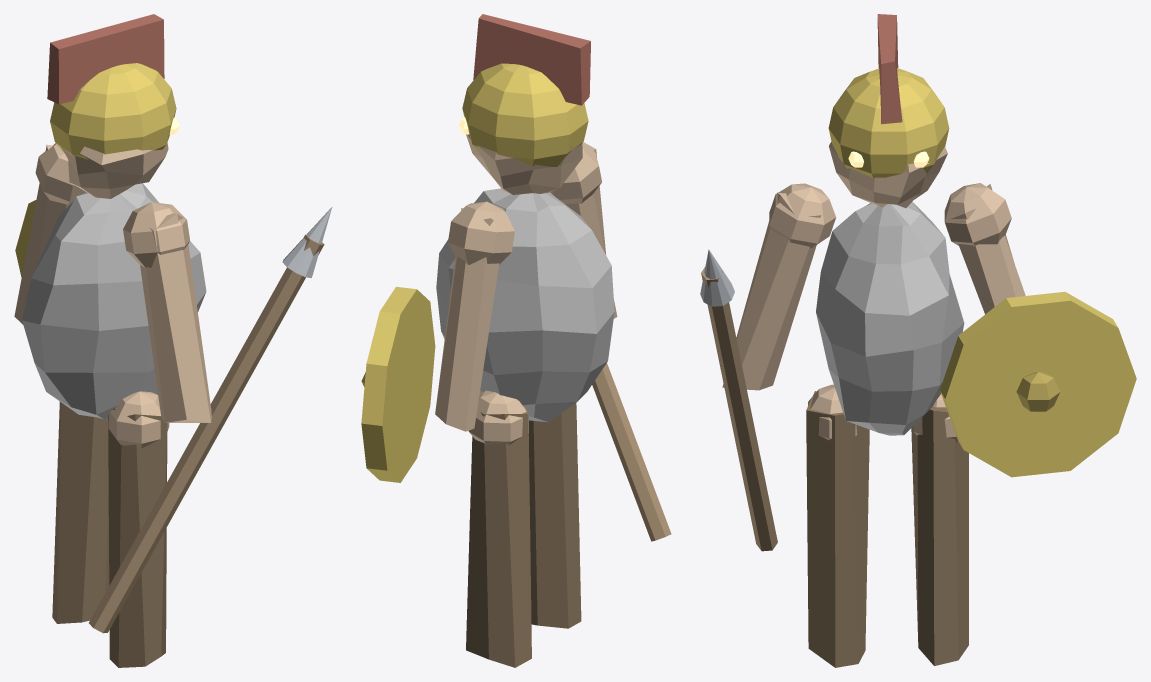
The model's file is captain.glb.
3 views of the same model, side by side, from view 1: azimuth 30°, elevation 25°; view 2: azimuth 150°, elevation 25°; view 3: azimuth 270°, elevation 25° (orthographic).
Visible parts, largest first — view 1: body, legL, legR, haftm, armR, helm, crest, skull, shoulder.001, hip.001, armL, shoulder (+2 smaller); view 2: body, legL, shieldm, legR, helm, armL, crest, haftm, shoulder, skull, hip, shoulder.001 (+1 smaller); view 3: shieldm, body, legR, legL, helm, armR, haftm, shoulder, shoulder.001, armL, skull, crest (+3 smaller).
Part boxes in pixels (x1,y1,x2,y2): body: (22,183,206,419); legL: (52,401,109,623); legR: (108,408,167,667); haftm: (89,234,324,633); armR: (140,213,211,422); helm: (50,63,176,159); crest: (47,14,164,104); skull: (55,136,168,198); shoulder.001: (123,202,189,267); hip.001: (108,391,169,448); armL: (14,144,69,324); shoulder: (35,143,86,205); body: (436,188,614,422); legL: (466,390,531,667); shieldm: (361,286,435,482); legR: (528,403,581,628); helm: (462,63,588,166); armL: (435,208,499,431); crest: (473,14,590,105); haftm: (592,363,671,541); shoulder: (448,201,514,264); skull: (466,134,582,194); hip: (468,390,528,445); shoulder.001: (550,142,601,203); shieldm: (940,291,1136,477); body: (816,202,964,435); legR: (806,391,869,667); legL: (911,406,968,665); helm: (828,68,949,177); armR: (722,192,821,390); haftm: (701,267,777,551); shoulder: (944,183,1011,245); shoulder.001: (769,183,836,248); armL: (951,184,1025,314); skull: (829,142,947,208); crest: (877,14,902,124).
Bounding box in the file's own units: 0.6538 × 1.8 × 1.16.
